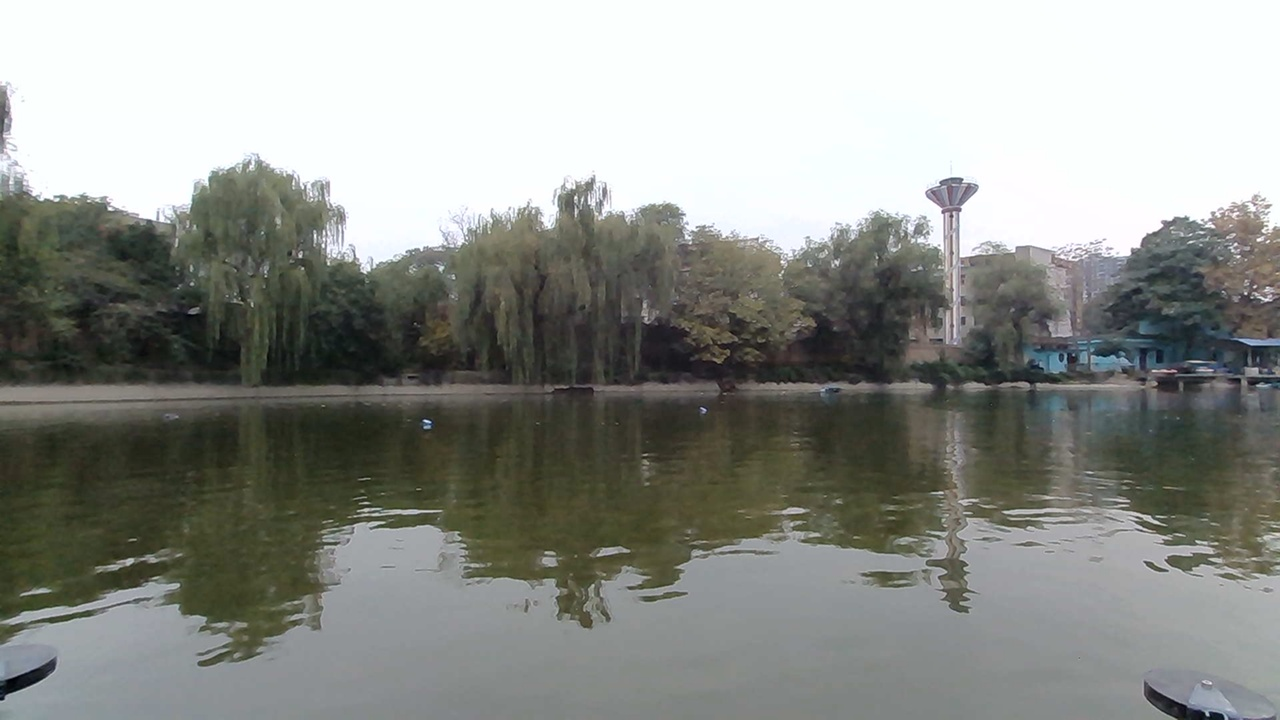bottle: (408, 405, 450, 434), (161, 406, 189, 427)
